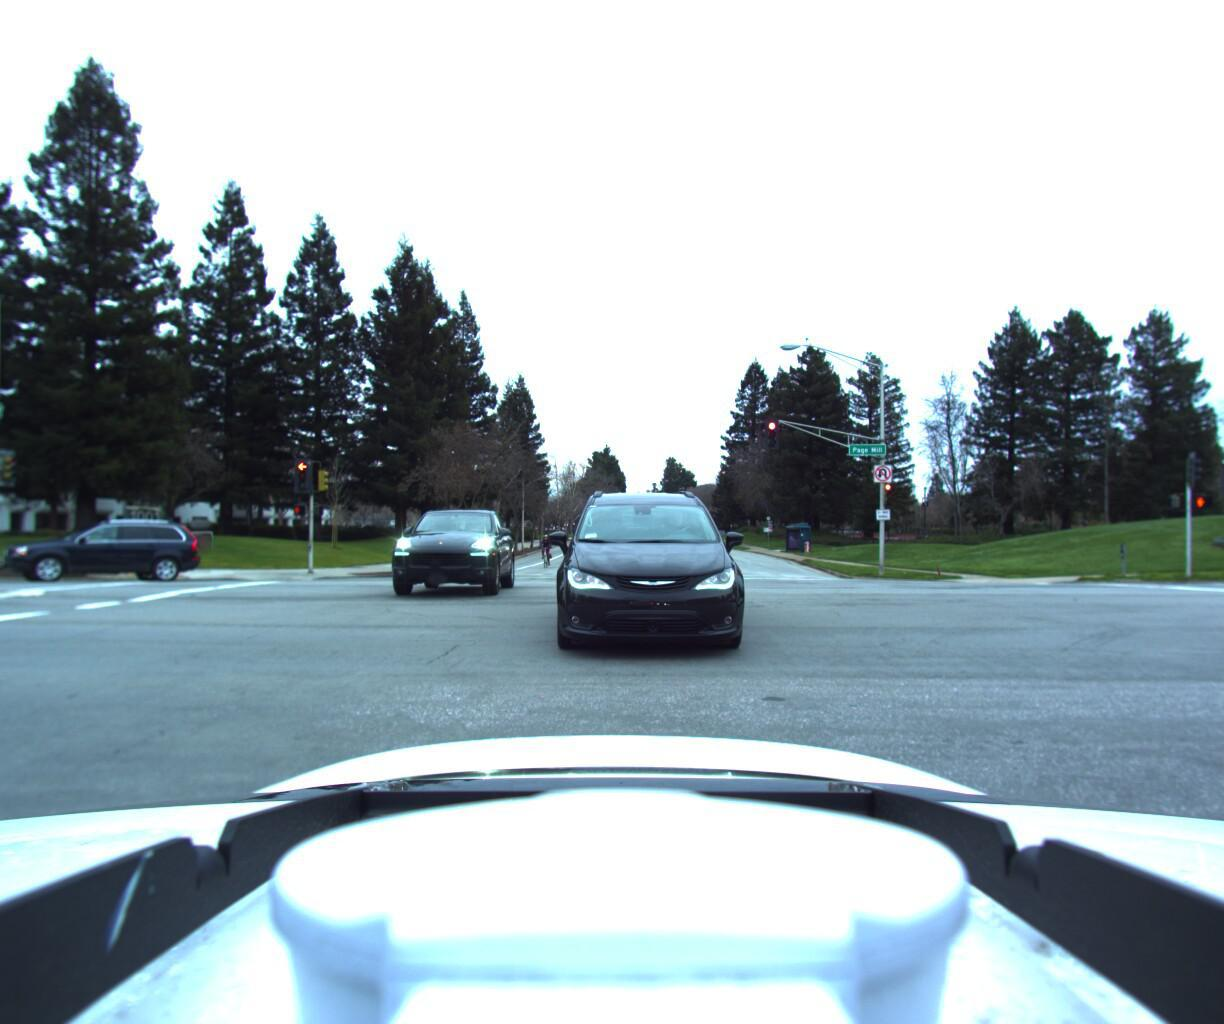bicycle: (532, 529, 554, 566)
car: (537, 472, 740, 661), (376, 495, 518, 600)
